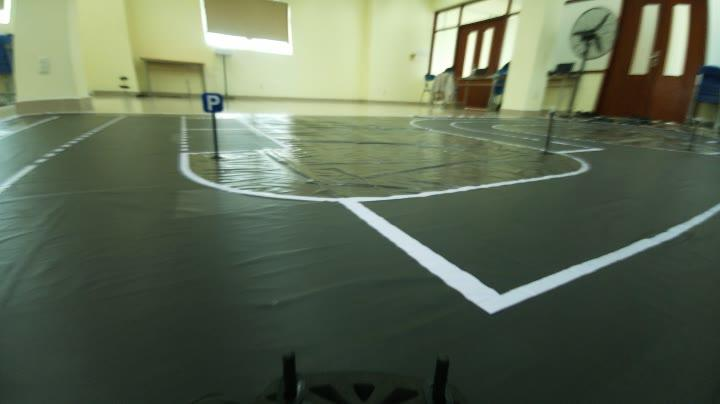parking: (196, 84, 229, 114)
